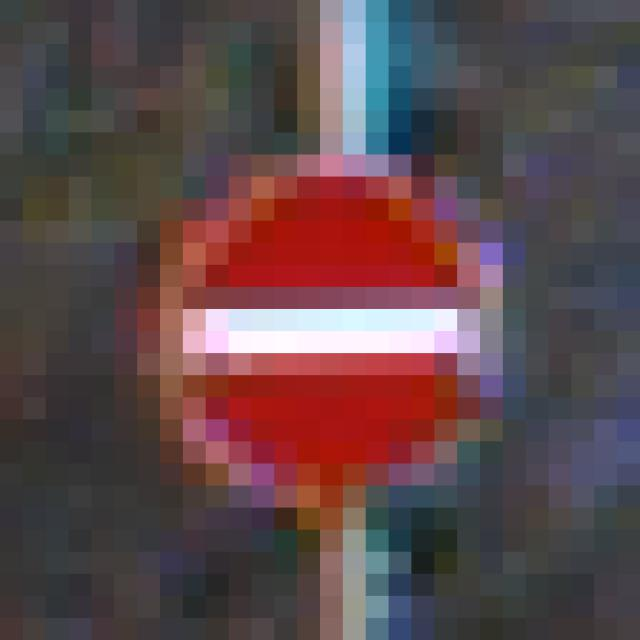No Entry: (115, 134, 527, 531)
